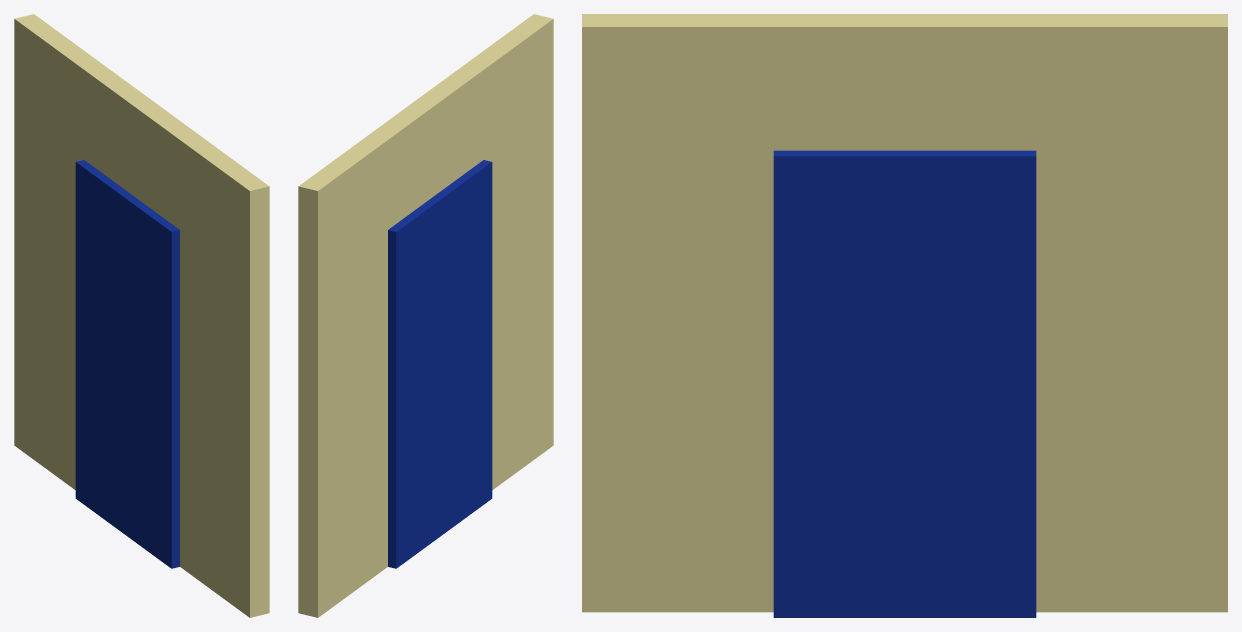
Rendered from door1.fbx.
3 views of the same model, side by side, from view 1: azimuth 30°, elevation 25°; view 2: azimuth 150°, elevation 25°; view 3: azimuth 270°, elevation 25° (orthographic). The views are drawn at different scales.
Visible parts, largest first — view 1: Cube.001, Cube; view 2: Cube.001, Cube; view 3: Cube.001, Cube.
Part boxes in pixels (<box>): Cube.001: <box>14,14,269,617</box>; Cube: <box>75,160,179,568</box>; Cube.001: <box>298,14,553,617</box>; Cube: <box>388,160,492,568</box>; Cube.001: <box>582,14,1227,612</box>; Cube: <box>773,150,1036,617</box>.
Size of the model in its own units: 17.91 by 200 by 200.
